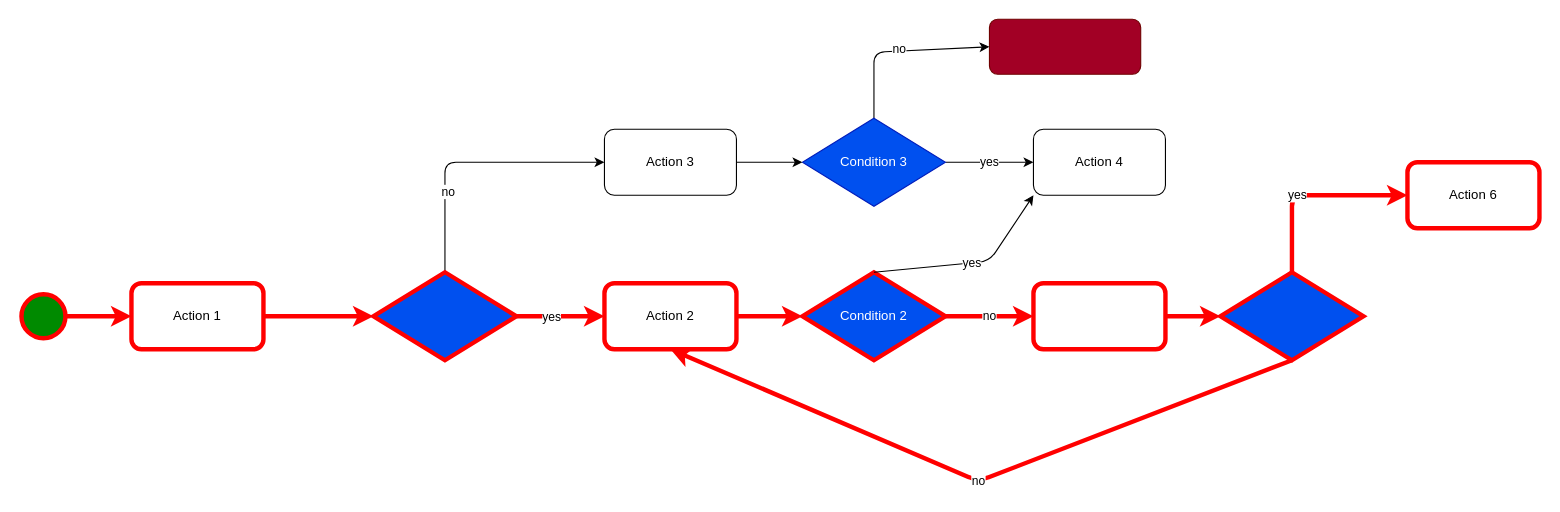
This 1560x512 diagram has some shape labels left out. The box of each missing label's shape, as (x1, y1, x2, y2) in pixels:
Action 5: (1031, 280, 1167, 351)
Condition 1: (371, 270, 518, 362)
Condition 4: (1218, 270, 1365, 362)
Error : Error message 1: (988, 18, 1141, 74)
